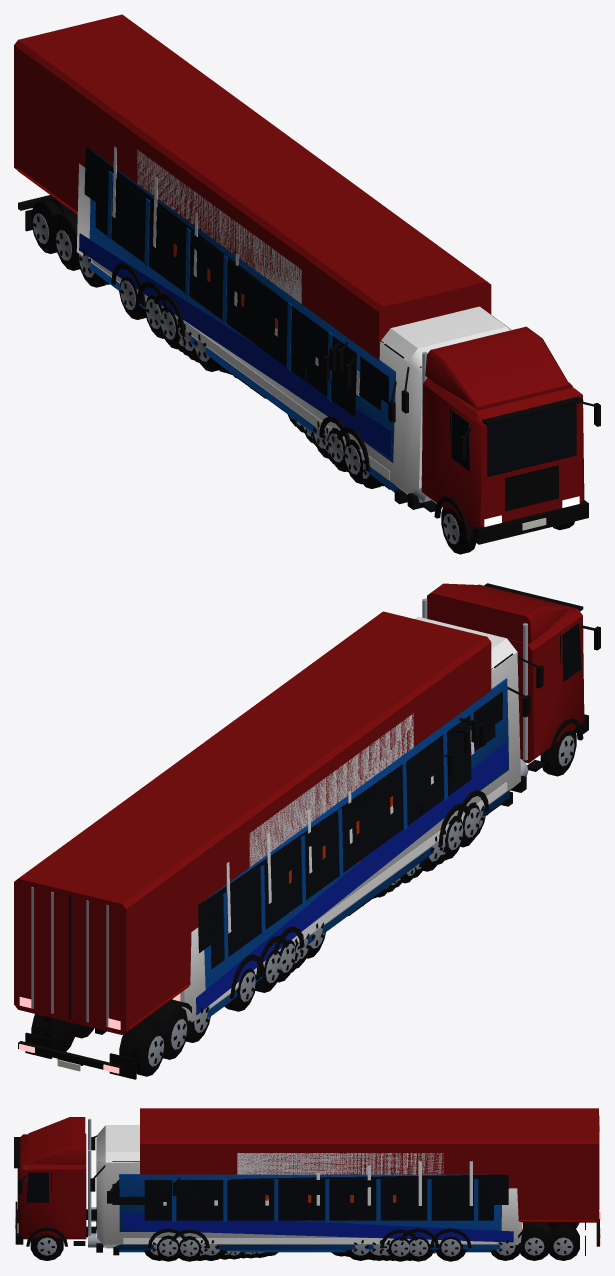
File: models.glb
The picture shows the model from 3 angles, top to bottom: view 1: azimuth 30°, elevation 25°; view 2: azimuth 150°, elevation 25°; view 3: azimuth 270°, elevation 25°; orthographic projection. The views are drawn at different scales.
Visible parts, largest first — view 1: car_SemiTracteur_paint, car_Bus_base, car_SemiTracteur_base, car_Car_base, car_Car_paint, car_Bus_paint, car_Porteur_base, car_Benne_base; view 2: car_SemiTracteur_paint, car_Bus_base, car_SemiTracteur_base, car_Car_base, car_Bus_paint, car_Car_paint, car_Porteur_base, car_Benne_base; view 3: car_SemiTracteur_paint, car_Bus_base, car_Car_base, car_Bus_paint, car_Car_paint, car_SemiTracteur_base, car_Porteur_base, car_Benne_base, car_Pompiers_base.
Boxes of the visible parts, x1=… form: car_SemiTracteur_paint: x1=14, y1=14, x2=584, y2=529; car_Bus_base: x1=92, y1=163, x2=407, y2=504; car_SemiTracteur_base: x1=17, y1=168, x2=600, y2=554; car_Car_base: x1=73, y1=146, x2=510, y2=509; car_Car_paint: x1=76, y1=146, x2=510, y2=494; car_Bus_paint: x1=89, y1=150, x2=400, y2=492; car_Porteur_base: x1=137, y1=150, x2=347, y2=463; car_Benne_base: x1=173, y1=244, x2=339, y2=458; car_SemiTracteur_paint: x1=14, y1=583, x2=584, y2=1034; car_Bus_base: x1=209, y1=687, x2=530, y2=1007; car_SemiTracteur_base: x1=18, y1=583, x2=600, y2=1079; car_Car_base: x1=186, y1=653, x2=543, y2=1035; car_Bus_paint: x1=204, y1=678, x2=509, y2=1018; car_Car_paint: x1=172, y1=616, x2=520, y2=1021; car_Porteur_base: x1=249, y1=713, x2=478, y2=972; car_Benne_base: x1=288, y1=728, x2=470, y2=958; car_SemiTracteur_paint: x1=18, y1=1108, x2=598, y2=1239; car_Bus_base: x1=107, y1=1179, x2=497, y2=1261; car_Car_base: x1=90, y1=1135, x2=523, y2=1261; car_Bus_paint: x1=115, y1=1174, x2=501, y2=1252; car_Car_paint: x1=97, y1=1125, x2=522, y2=1248; car_SemiTracteur_base: x1=14, y1=1115, x2=600, y2=1260; car_Porteur_base: x1=172, y1=1153, x2=443, y2=1260; car_Benne_base: x1=182, y1=1180, x2=396, y2=1260; car_Pompiers_base: x1=163, y1=1184, x2=411, y2=1260.
Bounding box in the file's own units: 3.3 × 4.37 × 19.33.
